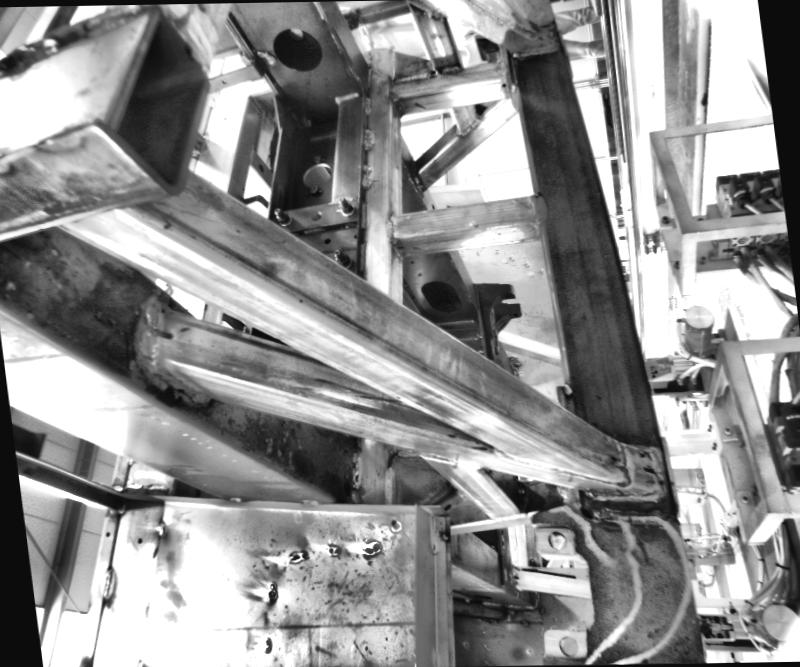bolt: (332, 194, 352, 215), (271, 204, 291, 223), (330, 247, 350, 266)
bracket: (470, 276, 526, 362)
hole: (270, 25, 322, 71), (418, 276, 465, 313), (296, 161, 330, 187), (556, 634, 578, 653), (545, 530, 568, 547), (149, 325, 173, 340), (306, 207, 322, 219), (642, 464, 652, 473), (134, 535, 143, 544), (322, 235, 331, 243), (103, 527, 110, 536), (497, 80, 506, 87), (394, 243, 404, 249), (394, 162, 397, 168), (415, 270, 419, 274), (410, 260, 414, 264), (352, 232, 355, 236), (431, 203, 433, 207)
welding: (140, 304, 172, 368), (582, 488, 674, 503), (654, 448, 668, 499), (98, 565, 118, 599), (616, 436, 628, 485), (529, 195, 545, 220), (222, 493, 246, 506), (357, 163, 371, 184), (384, 213, 394, 241), (360, 127, 372, 146), (296, 497, 322, 505), (362, 96, 372, 114), (156, 521, 166, 532)
